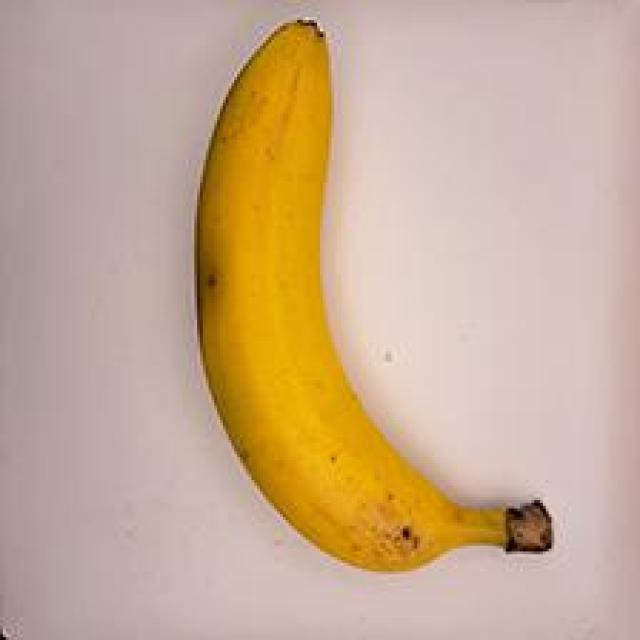Ripe: (142, 0, 568, 591)
